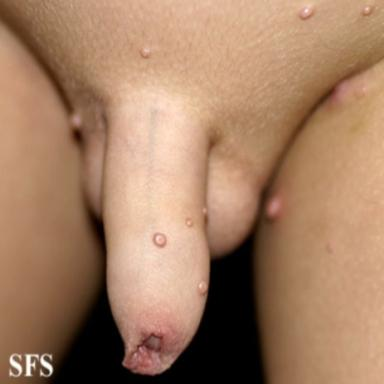Molluscum-Contagiosum: (265, 196, 282, 220), (69, 113, 83, 133), (153, 233, 167, 247), (299, 6, 314, 19), (198, 280, 208, 295), (361, 5, 373, 15), (139, 48, 150, 58), (185, 217, 193, 227), (203, 209, 206, 214)
